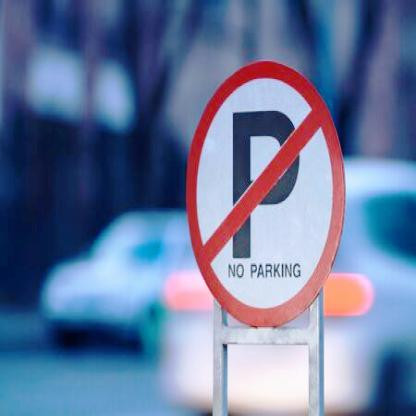No parking: (189, 51, 351, 325)
